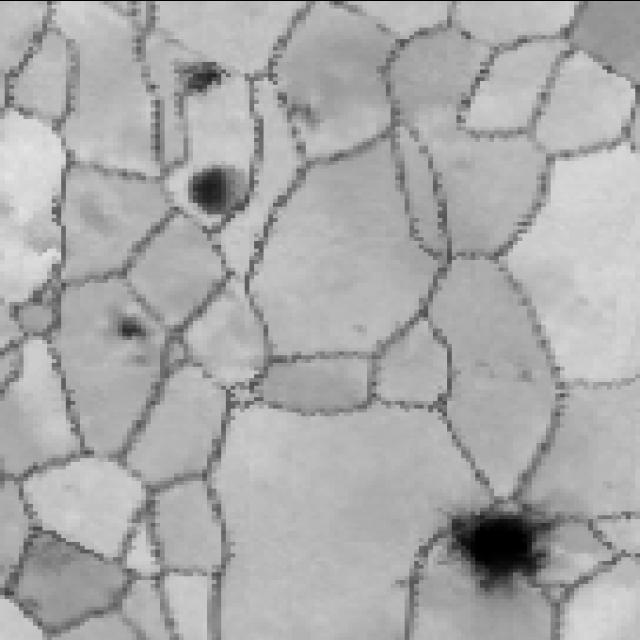good_void: (448, 508, 558, 588), (182, 151, 252, 222), (275, 93, 330, 132), (181, 62, 227, 92), (116, 316, 154, 343), (507, 358, 541, 384), (389, 570, 409, 592)
